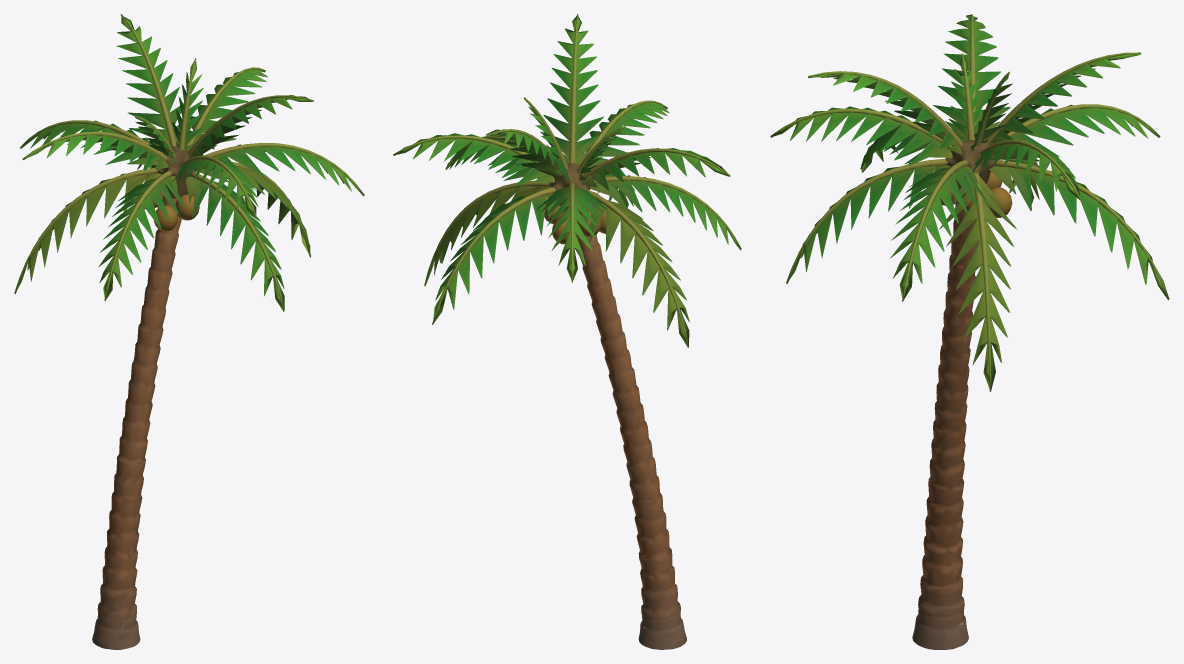
File: palm_a.glb
3 views of the same model, side by side, from view 1: azimuth 30°, elevation 25°; view 2: azimuth 150°, elevation 25°; view 3: azimuth 270°, elevation 25° (orthographic). The views are drawn at different scales.
Parts seen in each view (by area): view 1: palm_a_mesh; view 2: palm_a_mesh; view 3: palm_a_mesh.
Boxes of the visible parts, box(x1,y1,x2,y2) form: palm_a_mesh: box(14, 14, 364, 649); palm_a_mesh: box(393, 14, 741, 649); palm_a_mesh: box(770, 14, 1169, 649).
Bounding box in the file's own units: 6.24 × 10.42 × 5.86.
